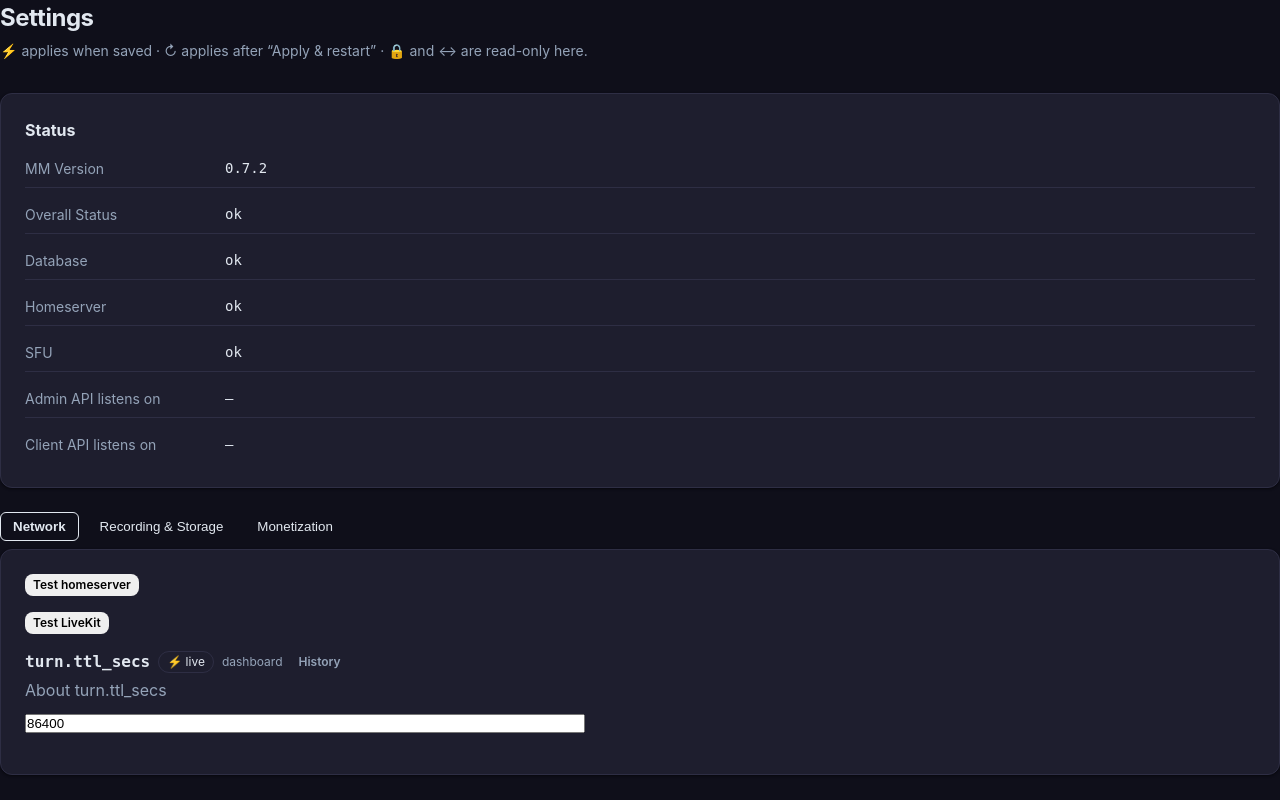
Scenario: SettingsPage › does not claim a change applied live when safe mode is on
The image size is (1280, 800).
Check: the tab "Network" is shown, box [0,512,79,541]
Replace the text in the number field labelled "turn.ttl_secs" with "3600" at x=305, y=724, box [25,714,585,733]
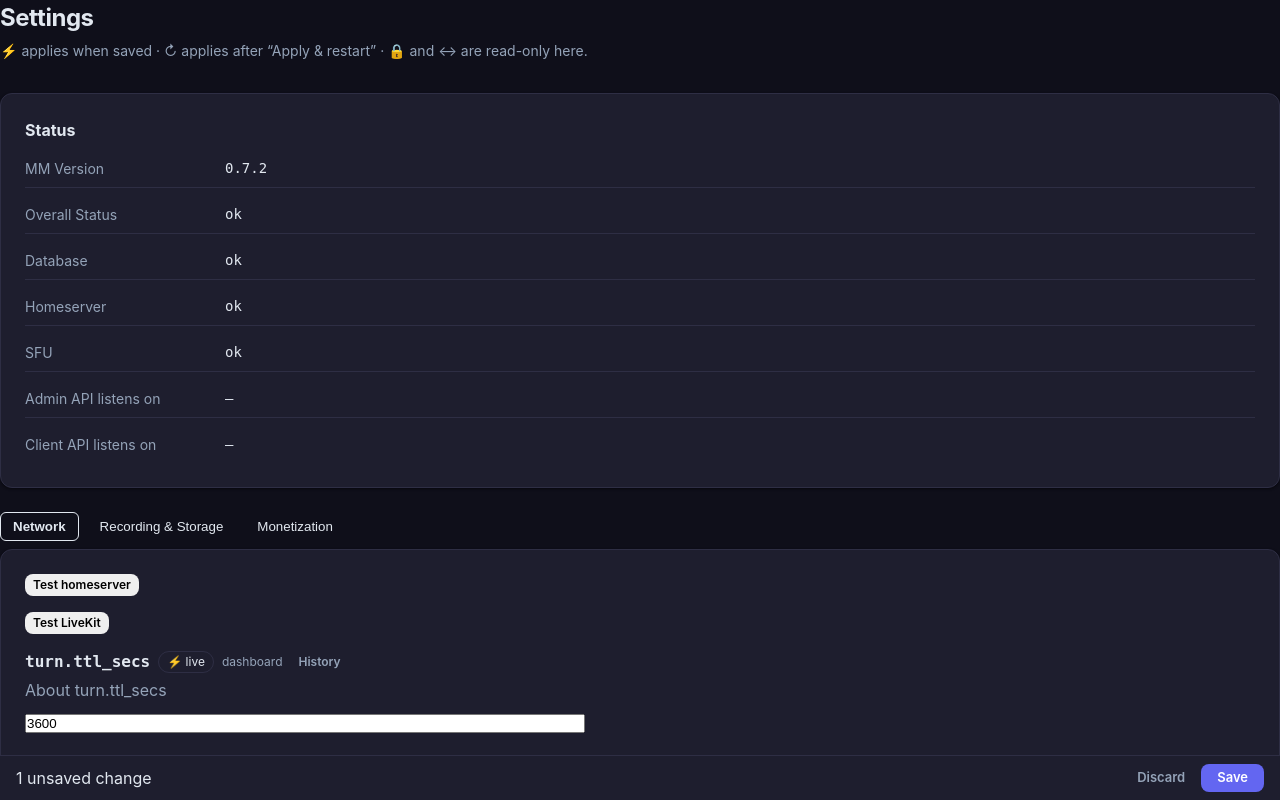
Click the button "Save" at x=1233, y=778, box [1201,764,1264,792]
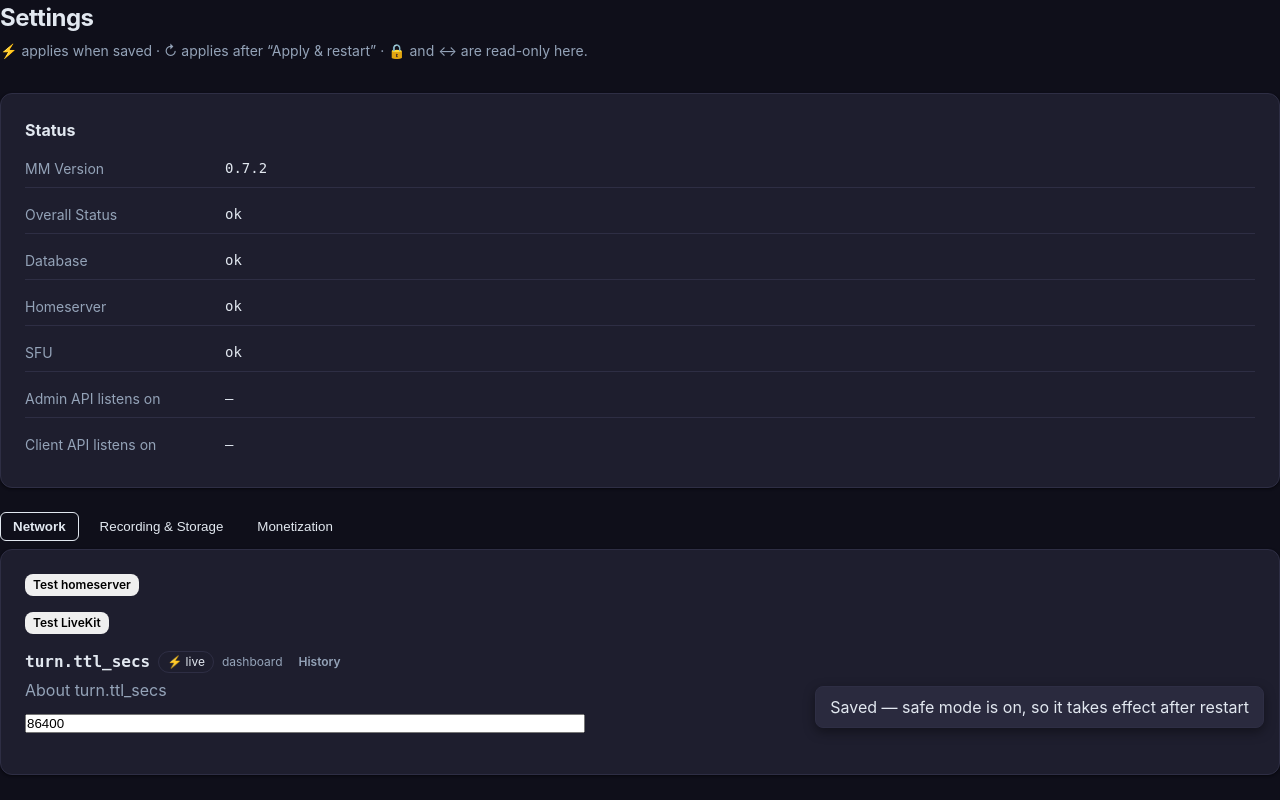
Check: the text "Saved — safe mode is on, so it takes effect after restart" is shown, box [815,686,1264,728]
